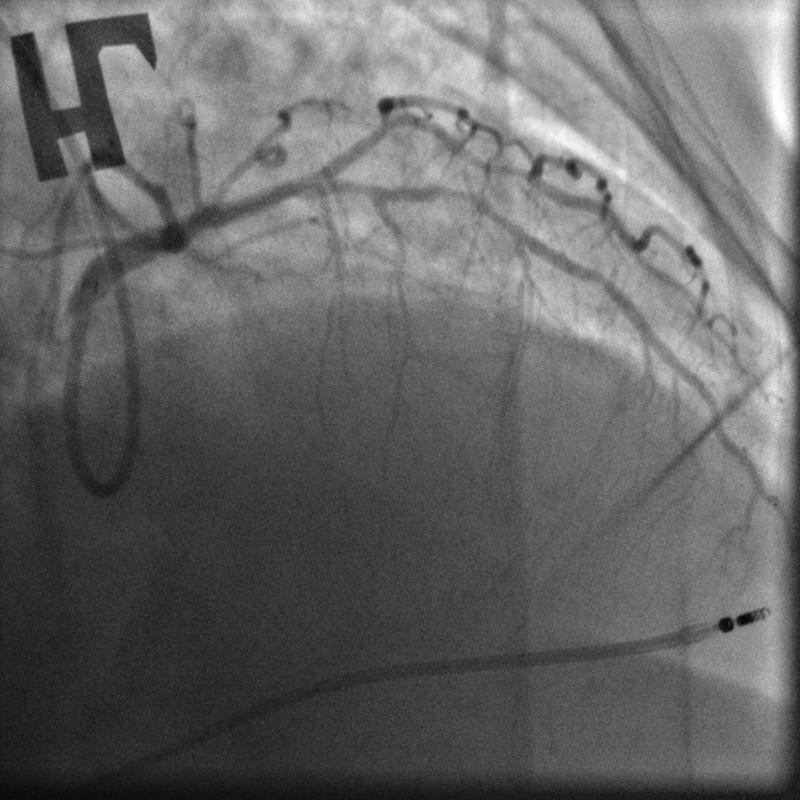Stenosis: (420, 176, 493, 216)
